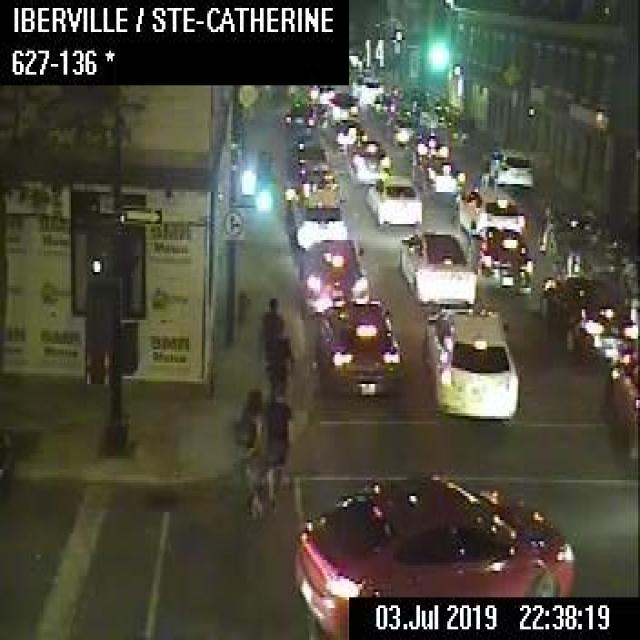pedestrian: (234, 384, 263, 522), (262, 384, 292, 511), (255, 296, 283, 379), (266, 320, 292, 398), (536, 199, 558, 252), (478, 151, 489, 184)
vehicle: (287, 470, 575, 638), (421, 303, 519, 419), (541, 268, 635, 362), (314, 298, 403, 394), (398, 228, 476, 302), (297, 238, 369, 314), (464, 224, 534, 292), (289, 181, 347, 249), (453, 184, 526, 236), (364, 171, 421, 224), (604, 354, 638, 441), (287, 136, 334, 182), (412, 156, 465, 196), (344, 139, 391, 181), (488, 144, 532, 186), (406, 130, 448, 168), (0, 422, 15, 509), (332, 116, 367, 152), (283, 104, 321, 136), (326, 89, 360, 121), (385, 115, 415, 145), (353, 73, 383, 100), (422, 101, 449, 127), (309, 82, 334, 106), (370, 93, 396, 114)
